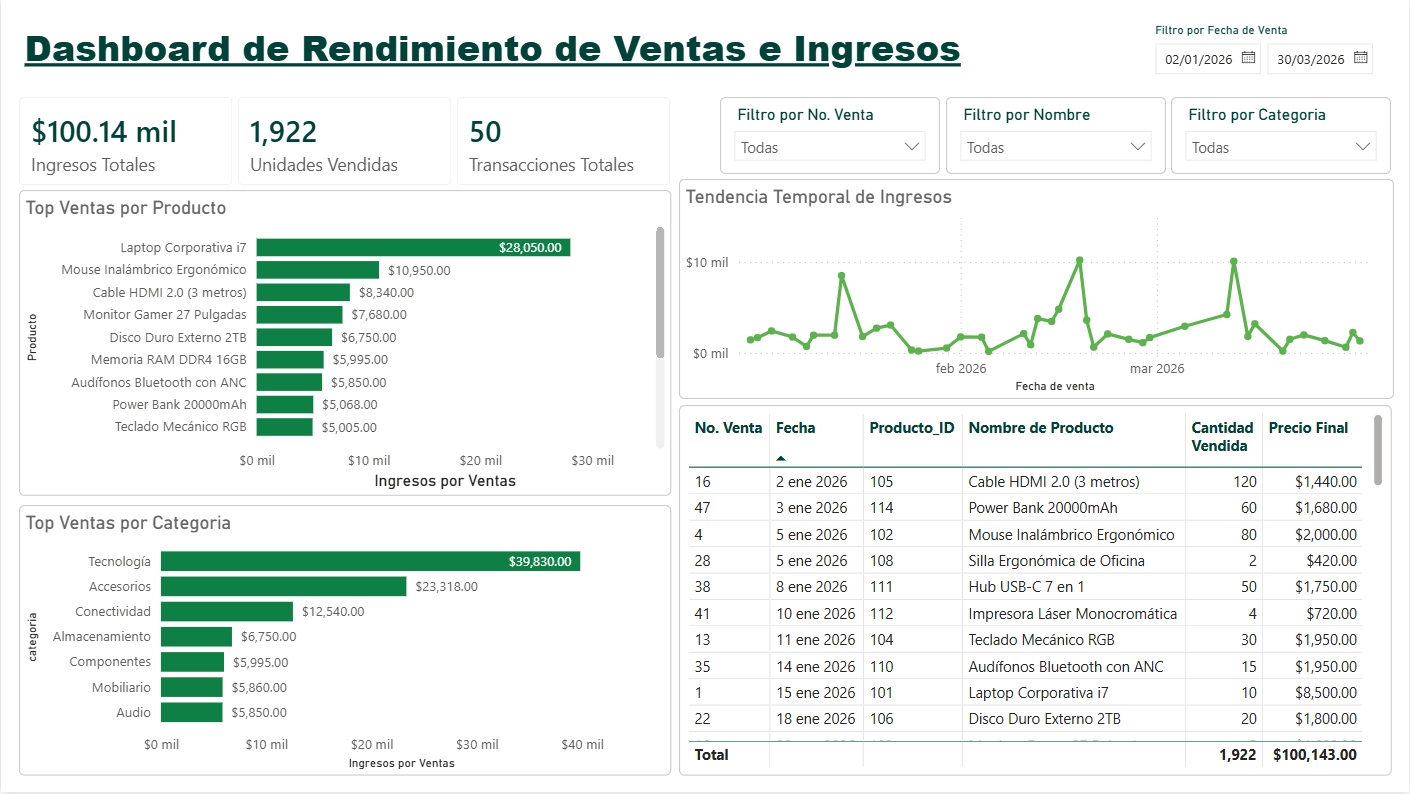

The dashboard page shown, as its layout file describes it:
{"tool":"powerbi","page":{"name":"Rendimiento de Ventas (Análisis Comercial)","canvas":[1280,720],"ordinal":2},"visuals":[{"type":"cardVisual","fields":{"Data":["Sum(ventas.precio_final_venta)","Sum(ventas.cantidad_vendida)","Count(ventas.venta_id)"]},"box":[16,88,593,80],"z":0},{"type":"lineChart","title":"Tendencia Temporal de Ingresos","fields":{"Category":["ventas.fecha_venta"],"Y":["Sum(ventas.precio_final_venta)"]},"box":[616,163,650,200],"z":1000},{"type":"clusteredBarChart","title":"Top Ventas por Producto","fields":{"Category":["productos.nombre_producto"],"Y":["Sum(ventas.precio_final_venta)"]},"box":[16,173,593,278],"z":2000},{"type":"tableEx","fields":{"Values":["ventas.venta_id","ventas.fecha_venta","productos.producto_id","productos.nombre_producto","Sum(ventas.cantidad_vendida)","Sum(ventas.precio_final_venta)"]},"box":[616,368,648,337],"z":3000},{"type":"clusteredBarChart","title":"Top Ventas por Categoria","fields":{"Y":["Sum(ventas.precio_final_venta)"],"Category":["productos.categoria"]},"box":[16,459,593,246],"z":4000},{"type":"textbox","box":[16,15,878,60],"z":5000},{"type":"slicer","fields":{"Values":["productos.categoria"]},"box":[1064,88,200,70],"z":6000},{"type":"slicer","fields":{"Values":["ventas.venta_id"]},"box":[654,88,200,70],"z":7000},{"type":"slicer","fields":{"Values":["productos.nombre_producto"]},"box":[859,88,200,70],"z":8000},{"type":"slicer","fields":{"Values":["ventas.fecha_venta"]},"box":[1036,15,228,60],"z":9000}]}

Visuals, with their boxes in screenshot pixels (x1, y1, x2, y2), scaled from the page's 1280x720 canvas onto the 1410x794 screenshot:
cardVisual - Sum(ventas.precio_final_venta) x Sum(ventas.cantidad_vendida): detection(18, 97, 671, 185)
"Tendencia Temporal de Ingresos" lineChart: detection(679, 180, 1395, 400)
"Top Ventas por Producto" clusteredBarChart: detection(18, 191, 671, 497)
tableEx - ventas.venta_id x ventas.fecha_venta: detection(679, 406, 1392, 777)
"Top Ventas por Categoria" clusteredBarChart: detection(18, 506, 671, 777)
textbox: detection(18, 17, 985, 83)
slicer - productos.categoria: detection(1172, 97, 1392, 174)
slicer - ventas.venta_id: detection(720, 97, 941, 174)
slicer - productos.nombre_producto: detection(946, 97, 1167, 174)
slicer - ventas.fecha_venta: detection(1141, 17, 1392, 83)
